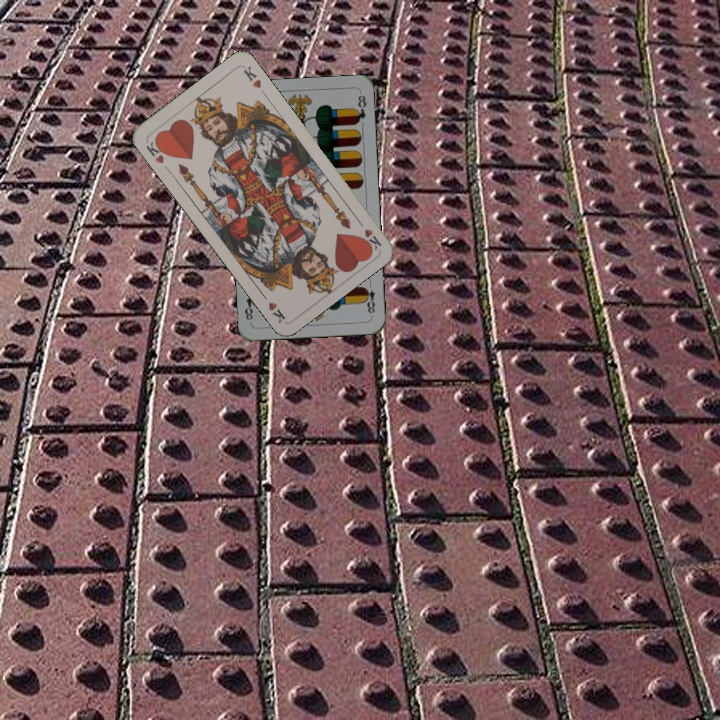E8: (360, 278, 377, 318)
HK: (353, 215, 384, 252), (142, 135, 170, 166)
